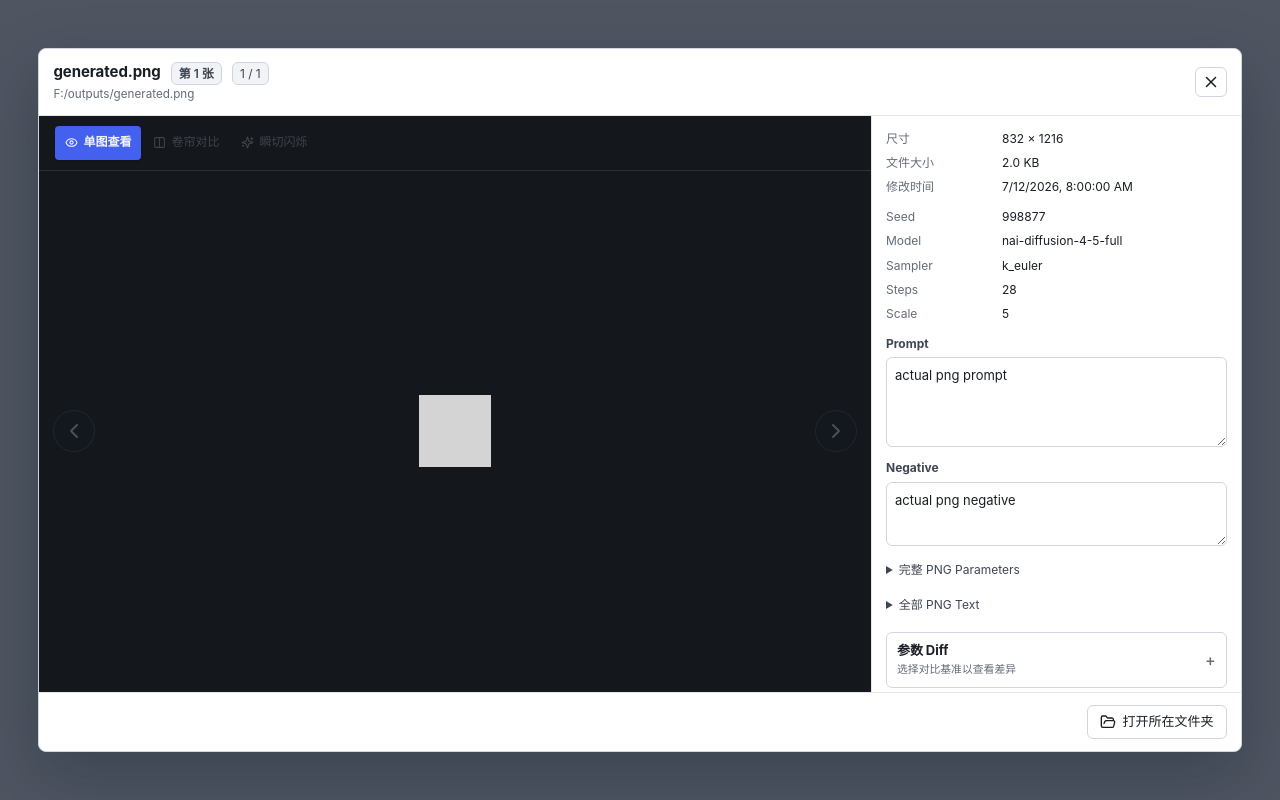
Test: ImageDetailDialog › displays metadata read by the image metadata API and opens the containing folder
Expected: the text "998877" is shown, [1002,209,1046,224]
Expected: the text "832 × 1216" is shown, [1002,131,1063,146]
What coordinates should you click on to do the following:
click the button "打开所在文件夹"
I would click on:
 (1157, 722)
Its box is [1087,705,1227,739].
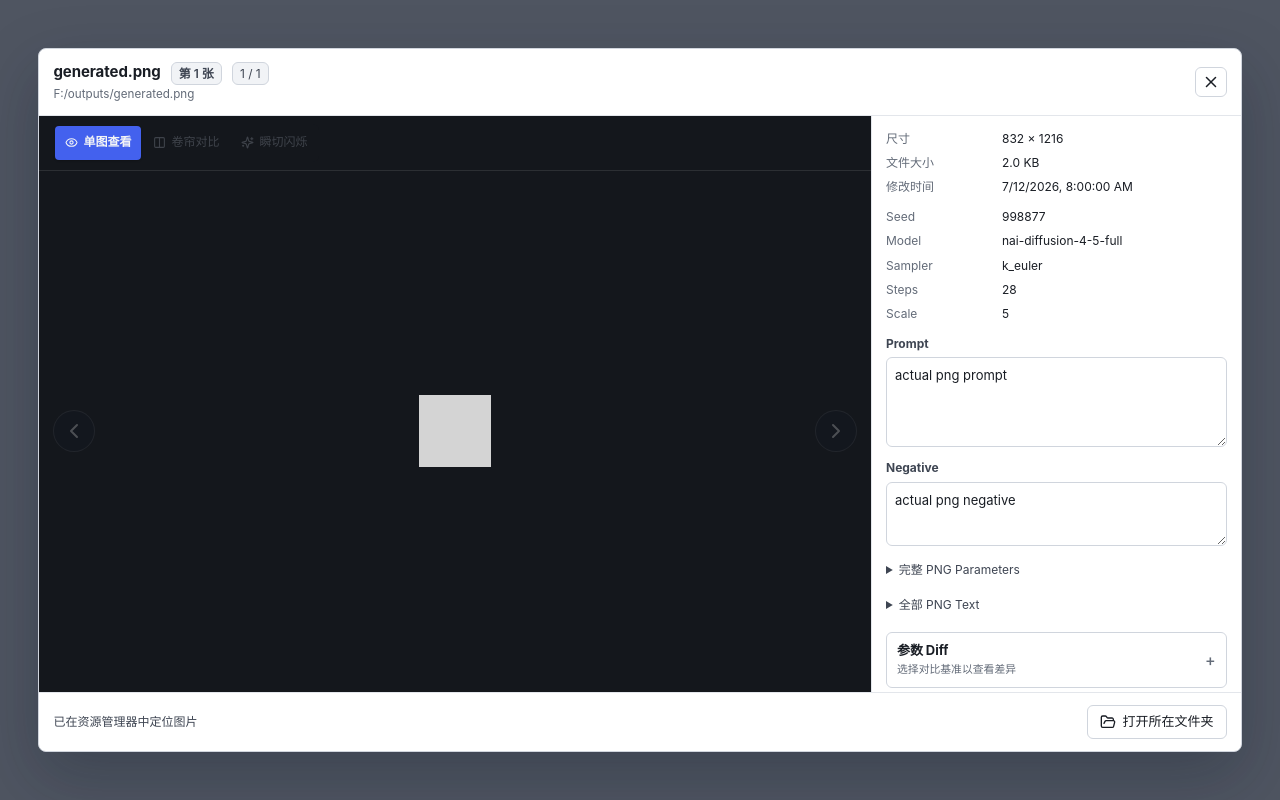
Expected: the text "已在资源管理器中定位图片" is shown, [53,713,197,731]
